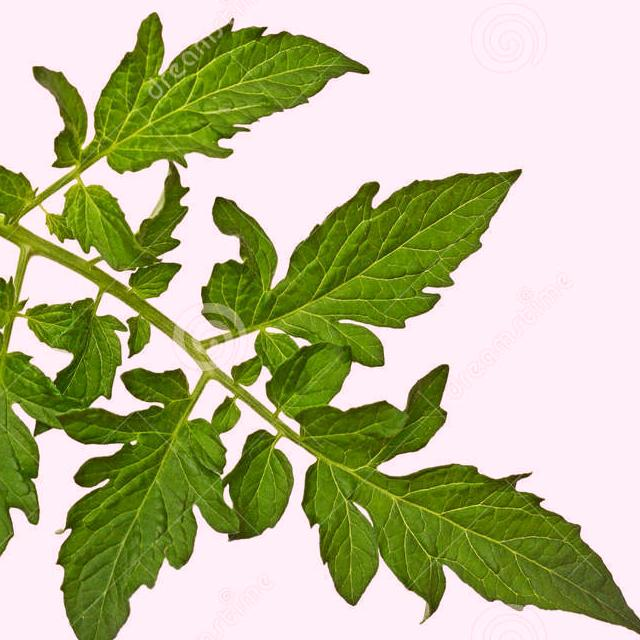Tomato leaf: (231, 165, 548, 365), (36, 23, 410, 191), (330, 443, 640, 640), (50, 351, 241, 640), (0, 313, 79, 640)
